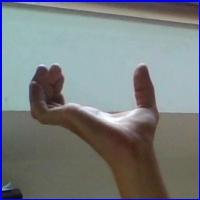B: (17, 55, 167, 163)
